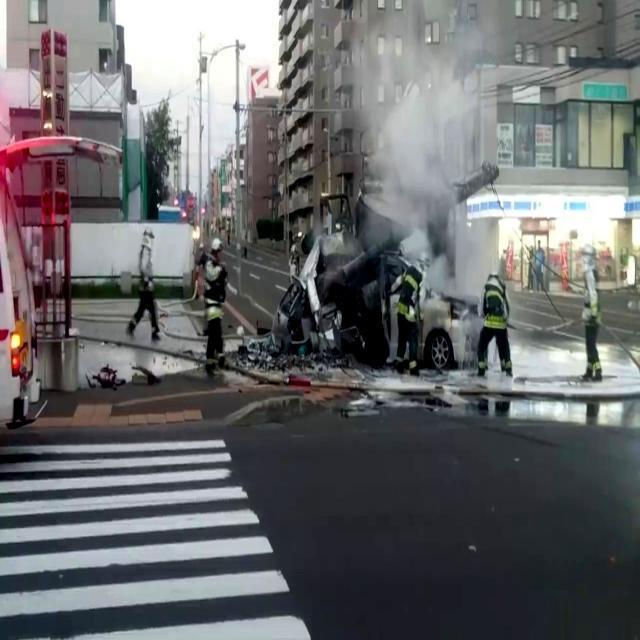Smoke: (346, 0, 507, 289)
